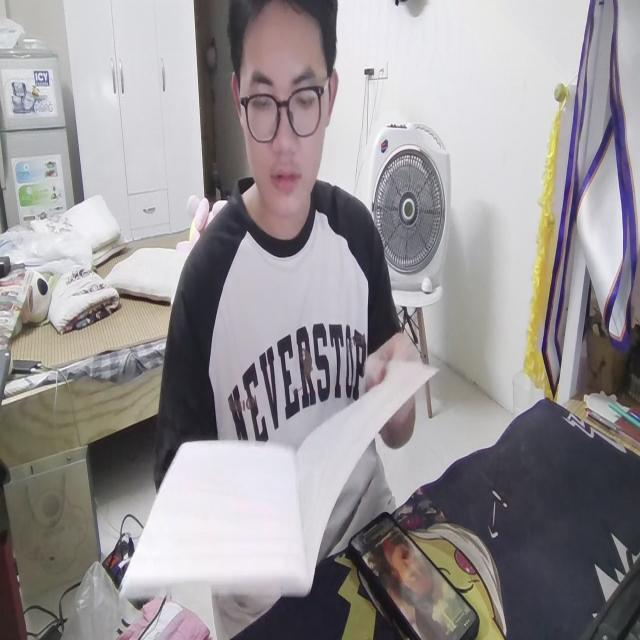book: (118, 347, 435, 599)
phone: (348, 508, 478, 640)
student: (148, 9, 416, 625)
